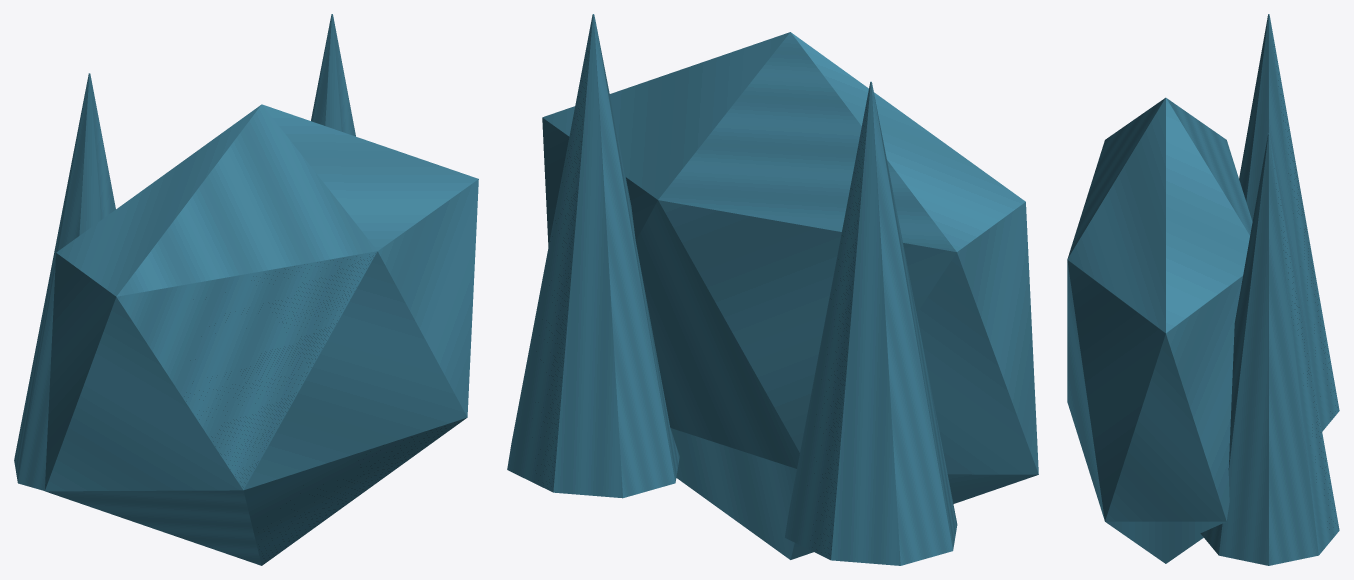
Rendered from march_capacitor.glb.
3 renders of one model, left to right at view 1: azimuth 30°, elevation 25°; view 2: azimuth 150°, elevation 25°; view 3: azimuth 270°, elevation 25°, orthographic. The views are drawn at different scales.
Parts seen in each view (by area): view 1: gear_march_capacitor; view 2: gear_march_capacitor; view 3: gear_march_capacitor.
Part boxes in pixels (left/top/right/bottom): gear_march_capacitor: left=14, top=14, right=478, bottom=565; gear_march_capacitor: left=507, top=14, right=1038, bottom=565; gear_march_capacitor: left=1067, top=14, right=1339, bottom=565.
Size of the model in its own units: 0.3935 by 0.42 by 0.2116.
Materials: 1 (1 with a texture image).
